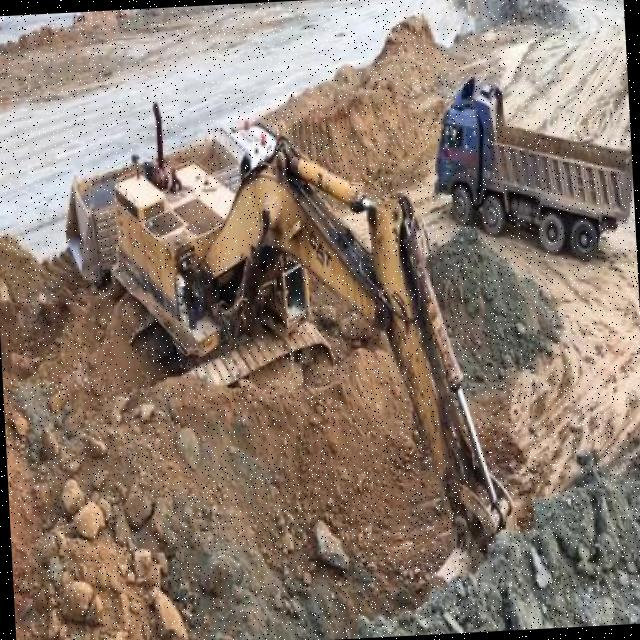Dump Truck: (425, 62, 637, 268), (60, 121, 285, 285)
Excavator: (108, 101, 520, 608)
